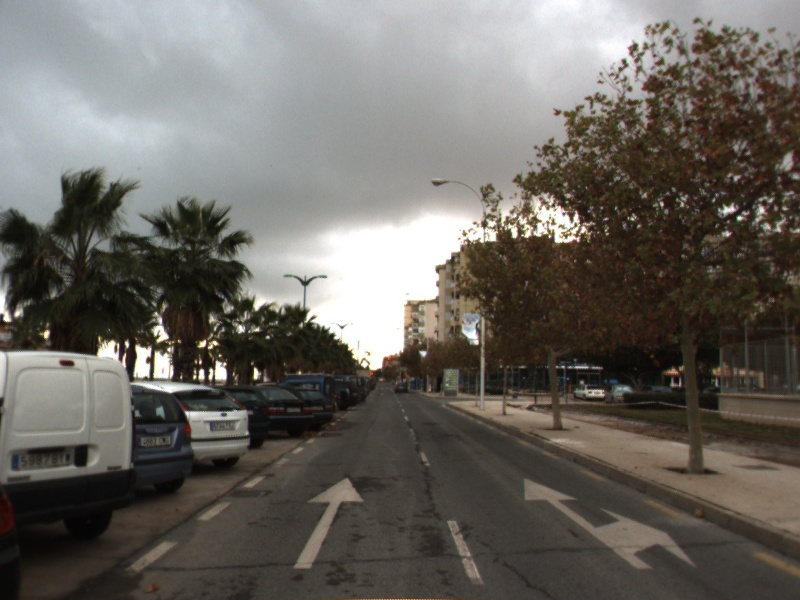STRAIGHT: (292, 476, 366, 570)
STRAIGHT_RIGHT: (522, 476, 698, 571)
